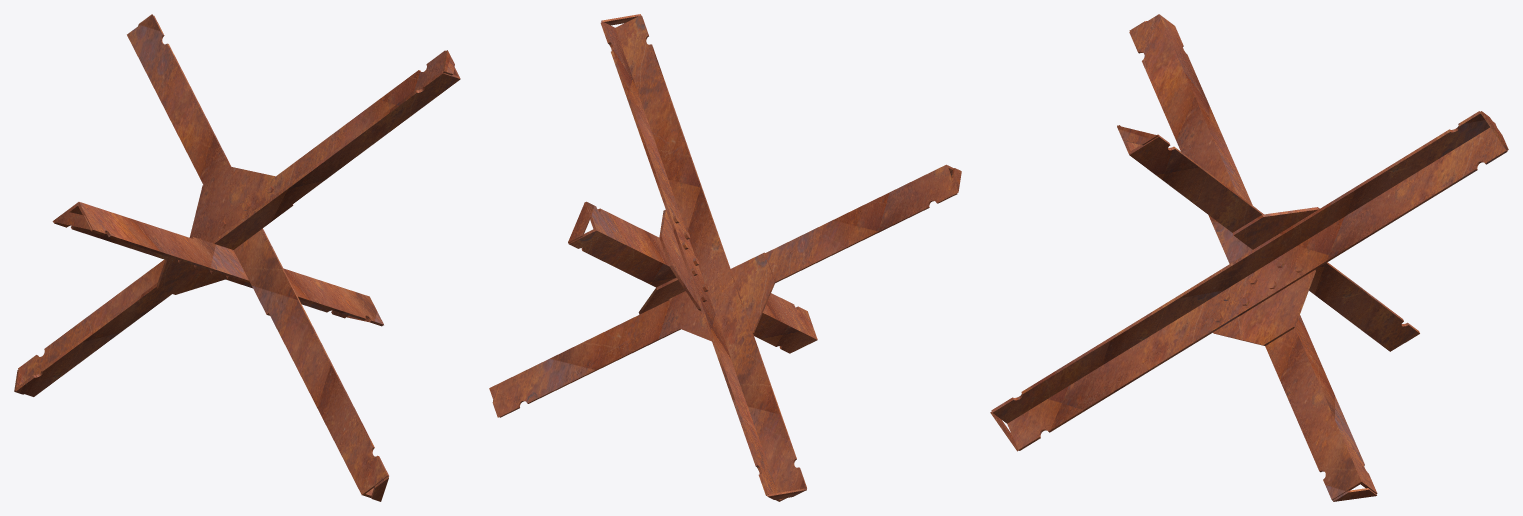
File: Hedgehog.fbx
3 views of the same model, side by side, from view 1: azimuth 30°, elevation 25°; view 2: azimuth 150°, elevation 25°; view 3: azimuth 270°, elevation 25° (orthographic). The views are drawn at different scales.
Parts seen in each view (by area): view 1: Haedgehog; view 2: Haedgehog; view 3: Haedgehog.
Boxes of the visible parts, left/top/right/bottom form: Haedgehog: left=14, top=14, right=460, bottom=501; Haedgehog: left=489, top=14, right=961, bottom=501; Haedgehog: left=990, top=14, right=1508, bottom=501.
Bounding box in the file's own units: 237 × 205 × 251.
1 material, 1 textured.
